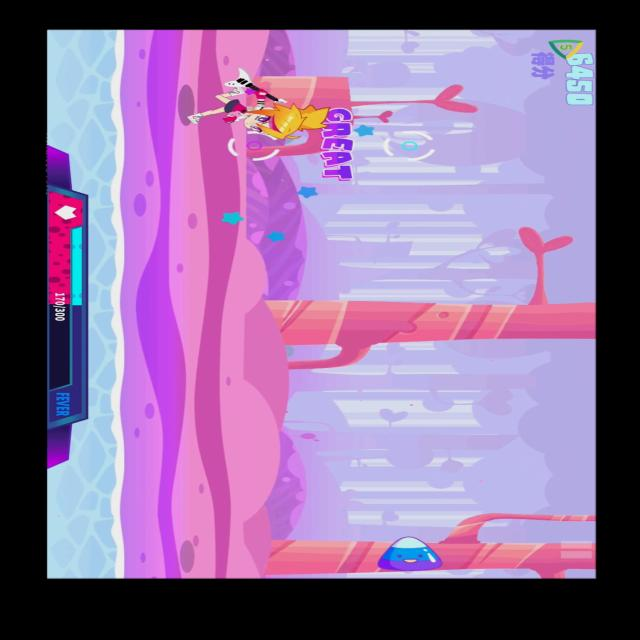Sky-Monster---Blue-Bullet: (370, 534, 446, 572)
